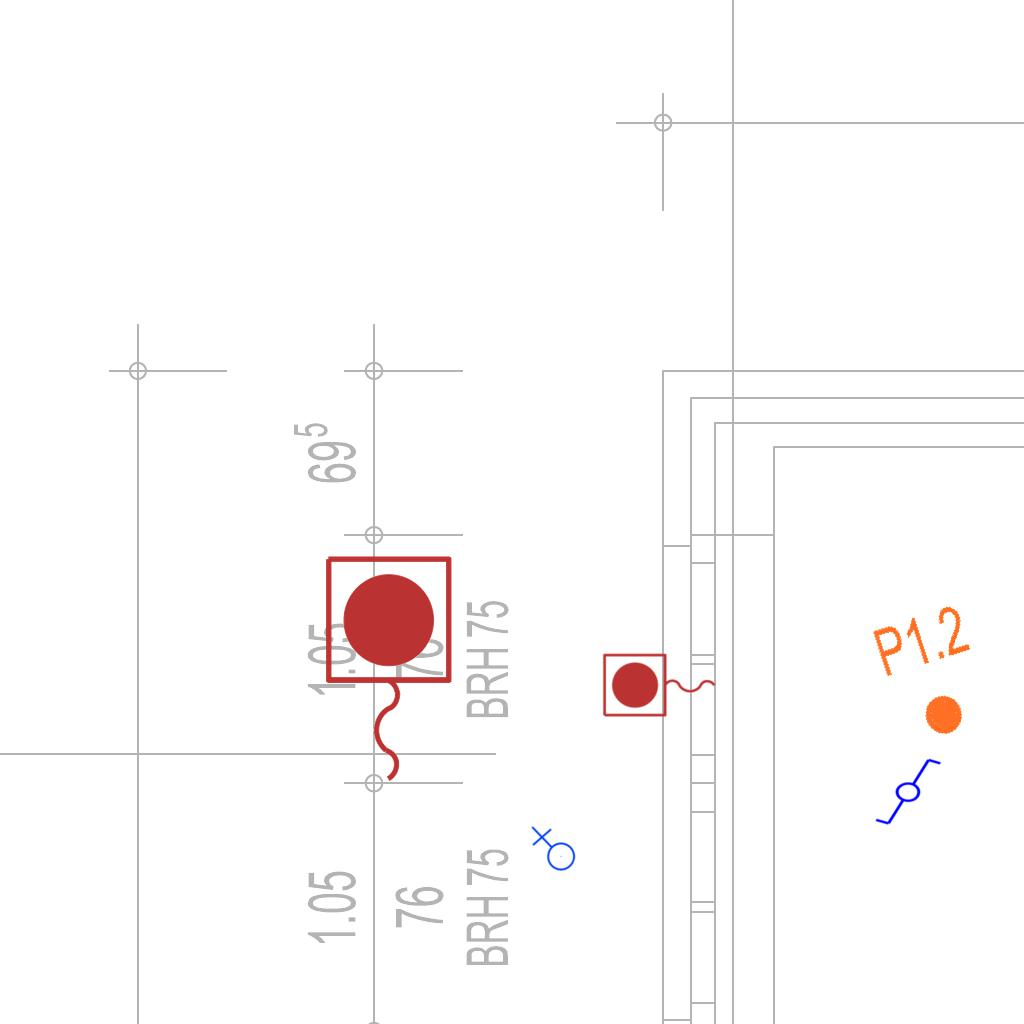Downlight_LED_Einbauleuchten_Flur: (868, 599, 997, 751)
Elektroanschluss_allgemein_230V_Geraeteanschlussdose_230V: (529, 826, 576, 875)
Wechselschalter: (865, 755, 943, 827)
Zugtaster: (315, 548, 459, 792), (599, 650, 721, 722)
